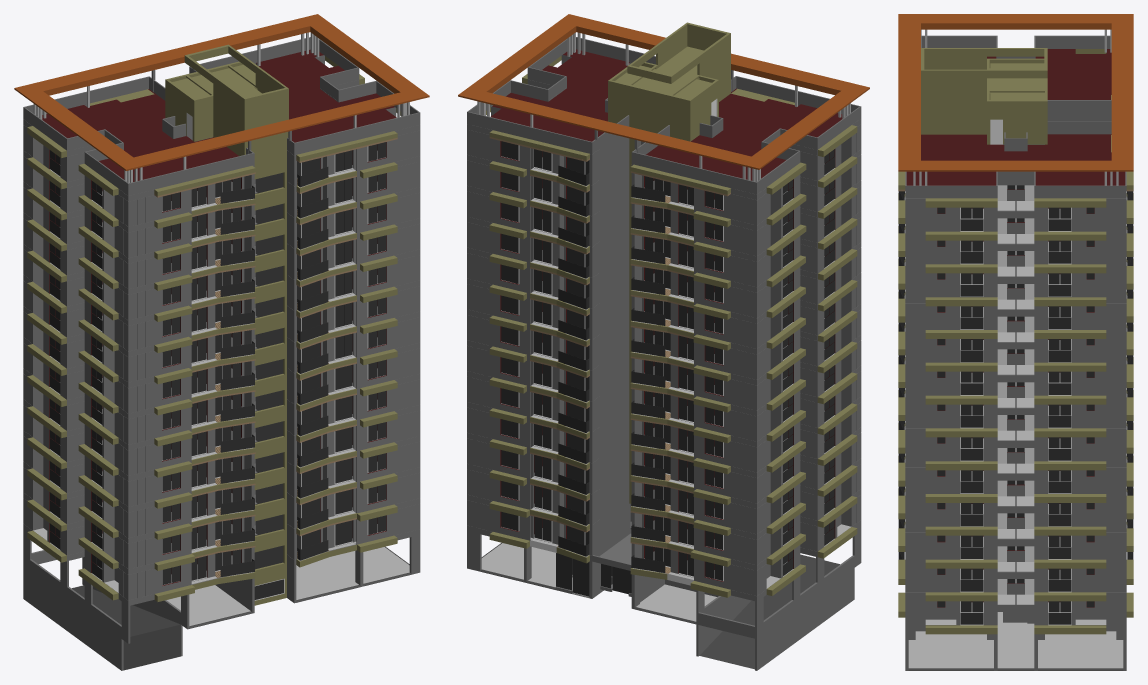
The model's file is apartment fbx.fbx.
3 views of the same model, side by side, from view 1: azimuth 30°, elevation 25°; view 2: azimuth 150°, elevation 25°; view 3: azimuth 270°, elevation 25° (orthographic). The views are drawn at different scales.
Visible parts, largest first — view 1: Component#51 [11515]_031_019, Component#51 [11515]_031_027, Component#51 [11515]_031_031, Building 02 N, Component#51 [11515]_031_029, Component#51 [11515]_031_010, Component#51 [11515]_031_002, Component#51 [11515]_031_007, Component#51 [11515]_031_025, Component#51 [11515]_031_003, Component#51 [11515]_031_028, Component#51 [11515]_031_011; view 2: Component#51 [11515]_031_019, Component#51 [11515]_031_027, Component#51 [11515]_031_031, Building 02 N, Component#51 [11515]_031_029, Component#51 [11515]_031_002, Component#51 [11515]_031_010, Component#51 [11515]_031_007, Component#51 [11515]_031_025, Component#51 [11515]_031_003; view 3: Component#51 [11515]_031_019, Component#51 [11515]_031_027, Building 02 N, Component#51 [11515]_031_031, Component#51 [11515]_031_029, Component#51 [11515]_031_010, Component#51 [11515]_031_020, Component#51 [11515]_031_011, Component#51 [11515]_031_003.
Part boxes in pixels (x1,y1,x2,y2): Component#51 [11515]_031_019: (23,37,420,670); Component#51 [11515]_031_027: (27,44,401,605); Component#51 [11515]_031_031: (50,142,385,599); Building 02 N: (14,14,429,592); Component#51 [11515]_031_029: (42,49,396,585); Component#51 [11515]_031_010: (166,547,409,626); Component#51 [11515]_031_002: (154,137,397,558); Component#51 [11515]_031_007: (72,585,180,670); Component#51 [11515]_031_025: (191,169,355,583); Component#51 [11515]_031_003: (33,32,409,182); Component#51 [11515]_031_028: (215,176,329,577); Component#51 [11515]_031_011: (189,546,410,628); Component#51 [11515]_031_019: (467,37,861,670); Component#51 [11515]_031_027: (486,22,857,597); Component#51 [11515]_031_031: (501,141,834,596); Building 02 N: (458,14,869,596); Component#51 [11515]_031_029: (490,49,842,581); Component#51 [11515]_031_002: (489,137,730,554); Component#51 [11515]_031_010: (481,543,716,621); Component#51 [11515]_031_007: (699,554,839,669); Component#51 [11515]_031_025: (531,168,693,579); Component#51 [11515]_031_003: (477,32,850,181); Component#51 [11515]_031_019: (905,35,1126,670); Component#51 [11515]_031_027: (898,48,1133,634); Building 02 N: (898,14,1133,625); Component#51 [11515]_031_031: (898,185,1133,624); Component#51 [11515]_031_029: (906,49,1125,607); Component#51 [11515]_031_010: (908,612,1123,668); Component#51 [11515]_031_020: (990,119,1034,594); Component#51 [11515]_031_011: (908,668,1123,670); Component#51 [11515]_031_003: (913,29,1118,185).
Size of the model in its own units: 3182 by 5415 by 2028.
